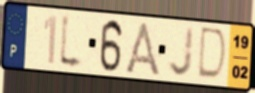1: (43, 14, 58, 65)
6: (100, 18, 126, 74)
A: (122, 20, 163, 79)
D: (195, 25, 229, 83)
J: (167, 25, 196, 79)
L: (57, 11, 86, 73)
